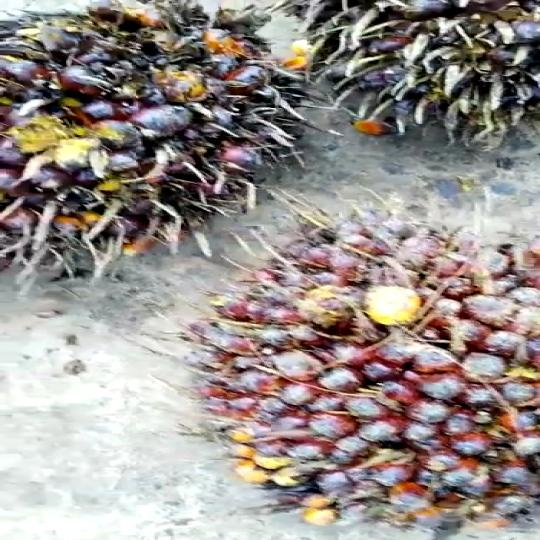masak: (194, 211, 540, 540), (0, 0, 312, 294)
